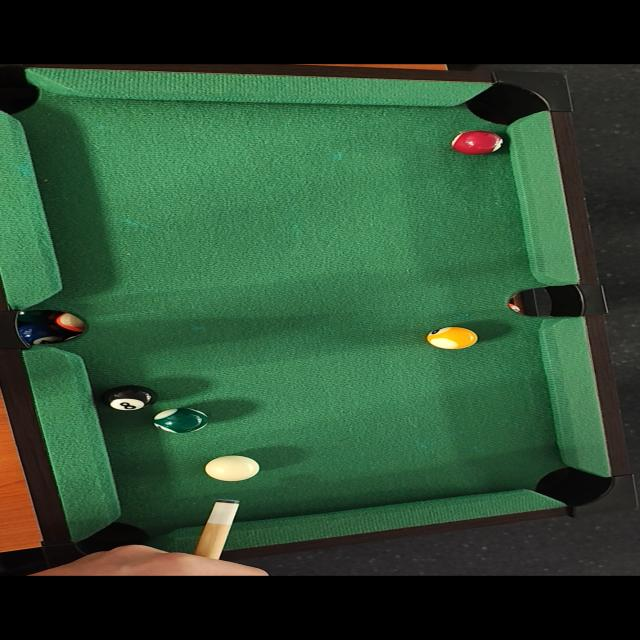cue ball: (200, 455, 270, 481)
other: (149, 406, 213, 436), (93, 386, 159, 412), (448, 130, 512, 156), (425, 326, 484, 351)
